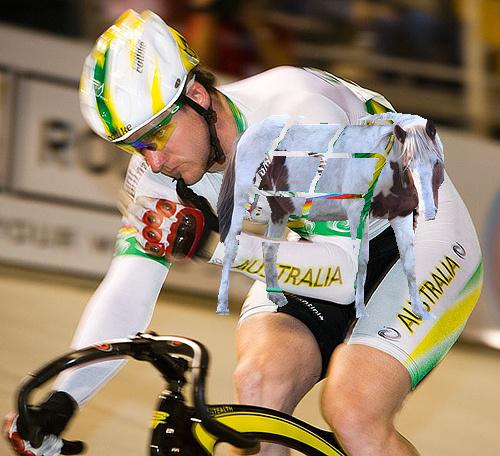tampered: (217, 113, 444, 320)
